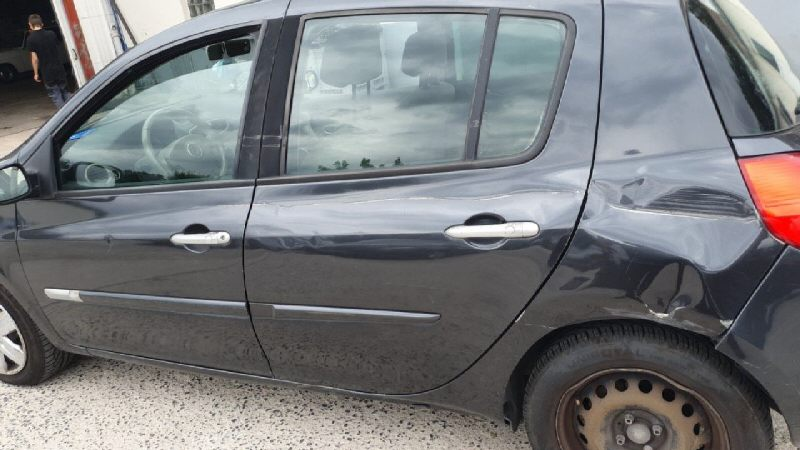front door: (1, 1, 292, 384)
